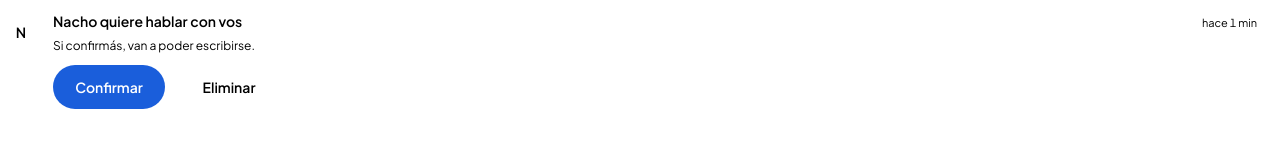
SolicitudEnAviso › si falla, vuelve a los botones y muestra el error
Step 1. Click the button "Eliminar" → (229, 87), box x1=173 y1=65 x2=285 y2=109
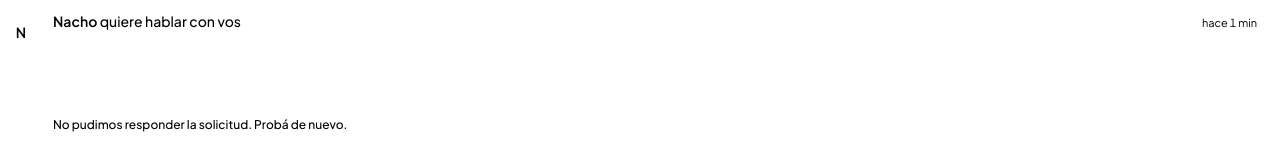
Now the message "No pudimos responder la solicitud. Probá de nuevo." is shown, box x1=53 y1=117 x2=347 y2=132
